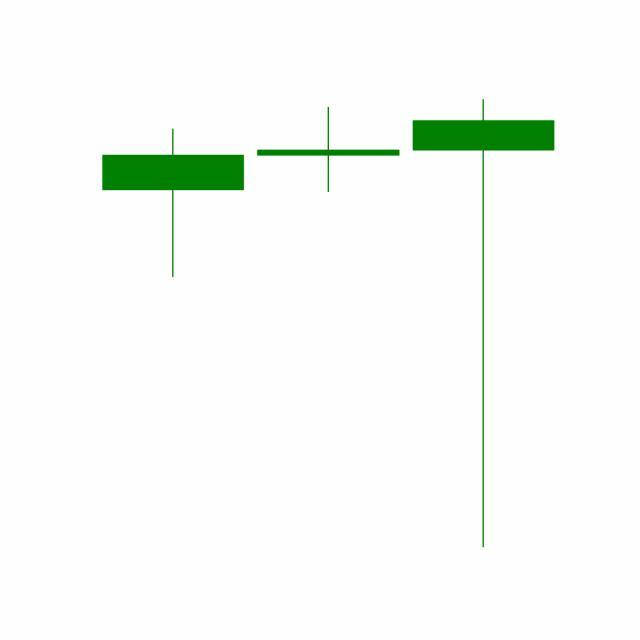Spinning Top: (250, 107, 407, 195)
